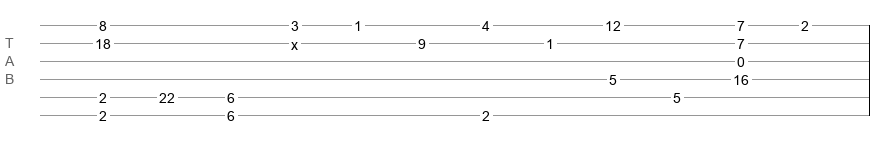0: (737, 54, 745, 64)
1: (354, 18, 362, 28), (546, 36, 554, 46)
12: (605, 18, 621, 28)
16: (733, 72, 749, 82)
18: (95, 36, 111, 46)
2: (99, 108, 107, 118), (99, 90, 107, 100), (482, 108, 490, 118), (801, 18, 809, 28)
22: (159, 90, 175, 100)
3: (291, 18, 299, 28)
4: (482, 18, 490, 28)
5: (609, 72, 617, 82), (673, 90, 681, 100)
6: (227, 108, 235, 118), (227, 90, 235, 100)
7: (737, 18, 745, 28), (737, 36, 745, 46)
8: (99, 18, 107, 28)
9: (418, 36, 426, 46)
x: (291, 37, 298, 45)
